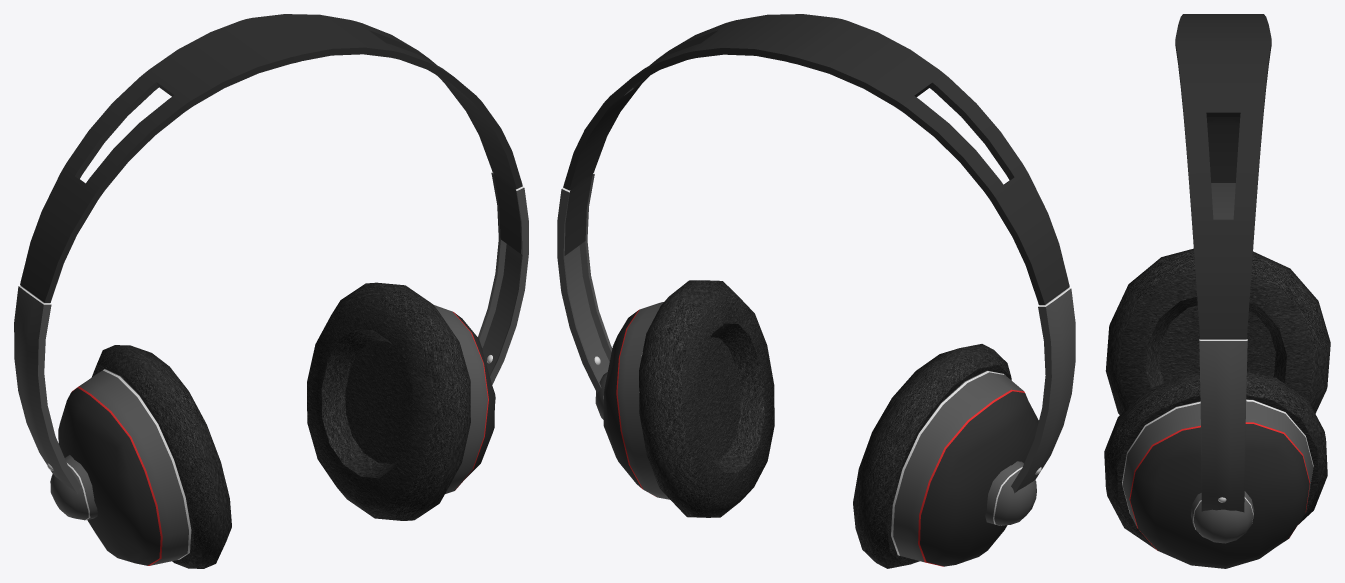
Rendered from headphone.glb.
3 views of the same model, side by side, from view 1: azimuth 30°, elevation 25°; view 2: azimuth 150°, elevation 25°; view 3: azimuth 270°, elevation 25° (orthographic). The views are drawn at different scales.
Parts seen in each view (by area): view 1: Plush_left_Black plush_0, headband_Black 05_0, Plush_right_Black plush_0, headband_Black Glossy_0, Speaker_Right_Black 05_0, Speaker_Right_Black Glossy_0, Speaker_Left_Black Glossy_0, Speaker_b_Right_Black Glossy_0, Speaker_Left_Black 05_0, Speaker_Right_Grey Glossy_0; view 2: headband_Black 05_0, Plush_left_Black plush_0, Speaker_Right_Black 05_0, Plush_right_Black plush_0, headband_Black Glossy_0, Speaker_Right_Black Glossy_0, Speaker_Left_Black Glossy_0, Speaker_b_Right_Black Glossy_0, Speaker_Left_Black 05_0, Speaker_Right_Grey Glossy_0; view 3: headband_Black 05_0, Plush_right_Black plush_0, Speaker_Left_Black 05_0, headband_Black Glossy_0, Plush_left_Black plush_0, Speaker_Left_Black Glossy_0, Speaker_b_Left_Black Glossy_0, Speaker_Left_Material #99_0, Speaker_Left_Grey Glossy_0.
Boxes of the visible parts, box(x1,y1,x2,y2) form: Plush_left_Black plush_0: box(307, 282, 470, 520); headband_Black 05_0: box(20, 14, 522, 302); Plush_right_Black plush_0: box(91, 345, 231, 568); headband_Black Glossy_0: box(14, 173, 528, 494); Speaker_Right_Black 05_0: box(58, 388, 160, 565); Speaker_Right_Black Glossy_0: box(79, 369, 191, 565); Speaker_Left_Black Glossy_0: box(434, 305, 487, 493); Speaker_b_Right_Black Glossy_0: box(50, 455, 97, 520); Speaker_Left_Black 05_0: box(455, 313, 495, 484); Speaker_Right_Grey Glossy_0: box(103, 369, 191, 559); headband_Black 05_0: box(563, 14, 1069, 304); Plush_left_Black plush_0: box(639, 280, 774, 517); Speaker_Right_Black 05_0: box(920, 391, 1038, 566); Plush_right_Black plush_0: box(853, 344, 1011, 568); headband_Black Glossy_0: box(557, 174, 1075, 493); Speaker_Right_Black Glossy_0: box(891, 370, 1023, 562); Speaker_Left_Black Glossy_0: box(617, 302, 669, 499); Speaker_b_Right_Black Glossy_0: box(985, 461, 1036, 525); Speaker_Left_Black 05_0: box(603, 311, 641, 488); Speaker_Right_Grey Glossy_0: box(891, 371, 1004, 555); headband_Black 05_0: box(1175, 14, 1271, 339); Plush_right_Black plush_0: box(1105, 248, 1330, 414); Speaker_Left_Black 05_0: box(1130, 424, 1309, 568); headband_Black Glossy_0: box(1199, 183, 1247, 512); Plush_left_Black plush_0: box(1104, 372, 1327, 549); Speaker_Left_Black Glossy_0: box(1122, 399, 1313, 526); Speaker_b_Left_Black Glossy_0: box(1191, 491, 1254, 543); Speaker_Left_Material #99_0: box(1129, 422, 1310, 550); Speaker_Left_Grey Glossy_0: box(1122, 399, 1313, 513).
Size of the model in its own units: 78.83 by 75.07 by 32.68.
Materials: 5 (1 with a texture image).
